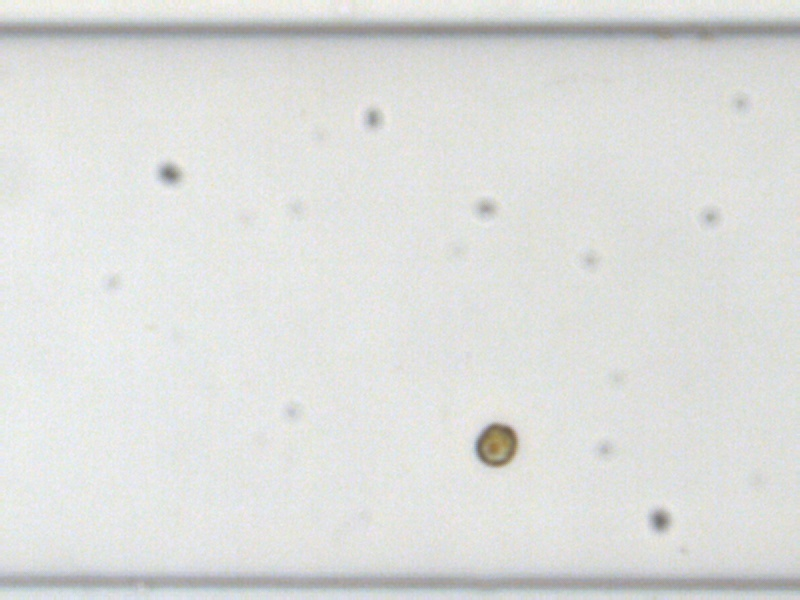Effrenium: (470, 419, 519, 468)
